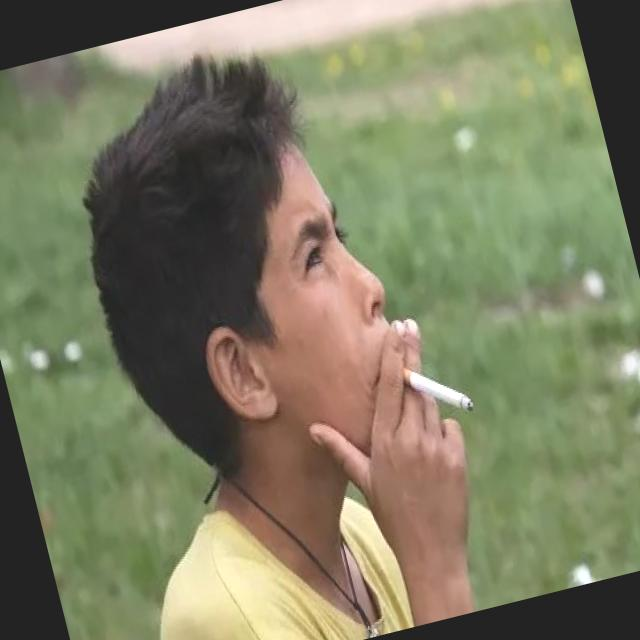smoke: (384, 346, 482, 440)
